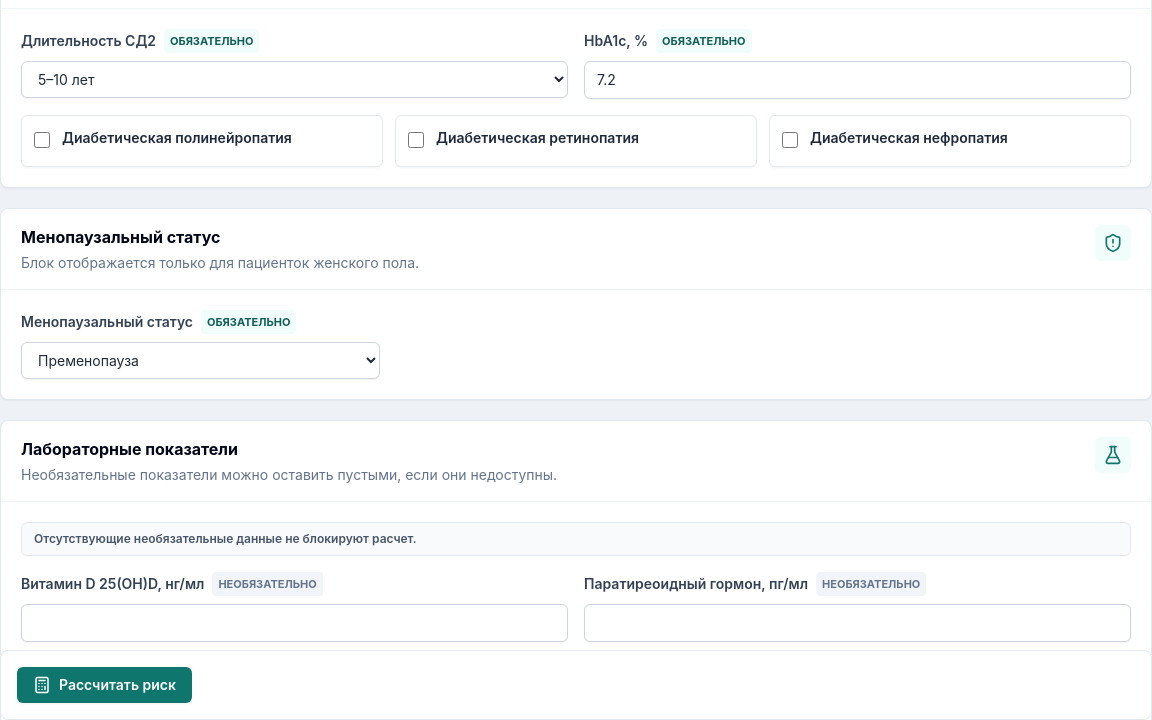
OsteoRiskPage › shows menopause onset age only for postmenopause
(page scrolled)
Expected: the field labelled "Возраст наступления менопаузы" is not shown
Select "Постменопауза" in the dropdown labelled "Менопаузальный статус Обязательно": (201, 360) [21, 342, 380, 379]
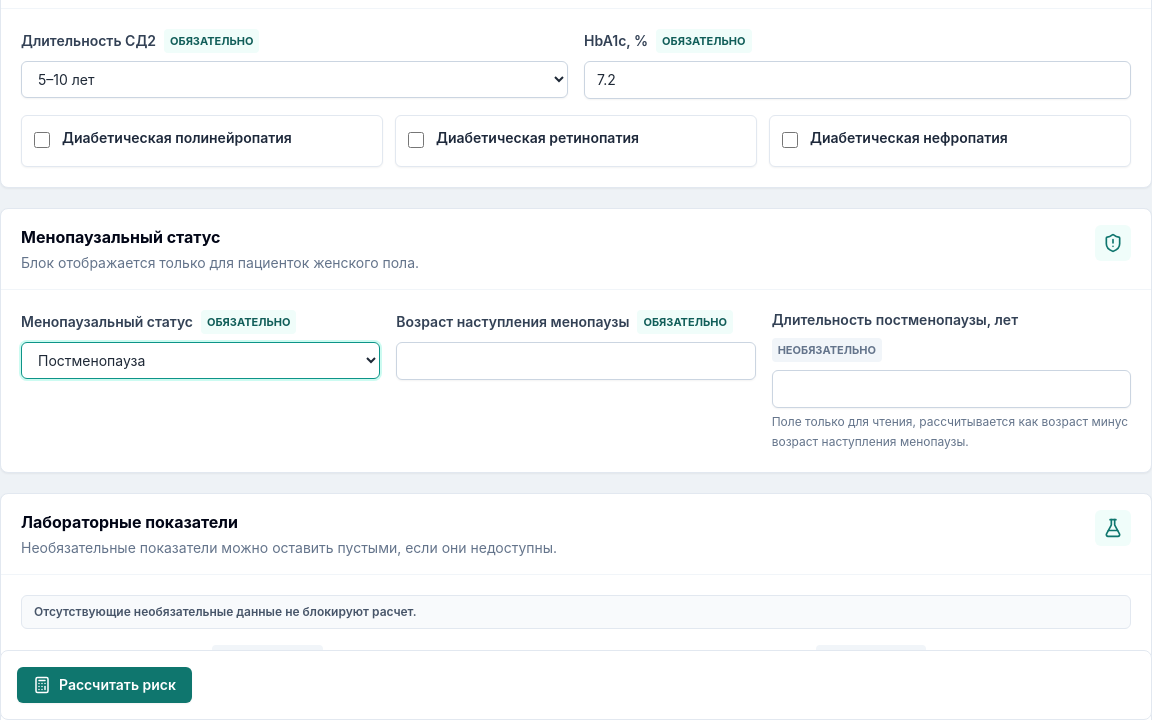
Now the number field labelled "Возраст наступления менопаузы Обязательно" is shown, box [396, 342, 756, 380]
